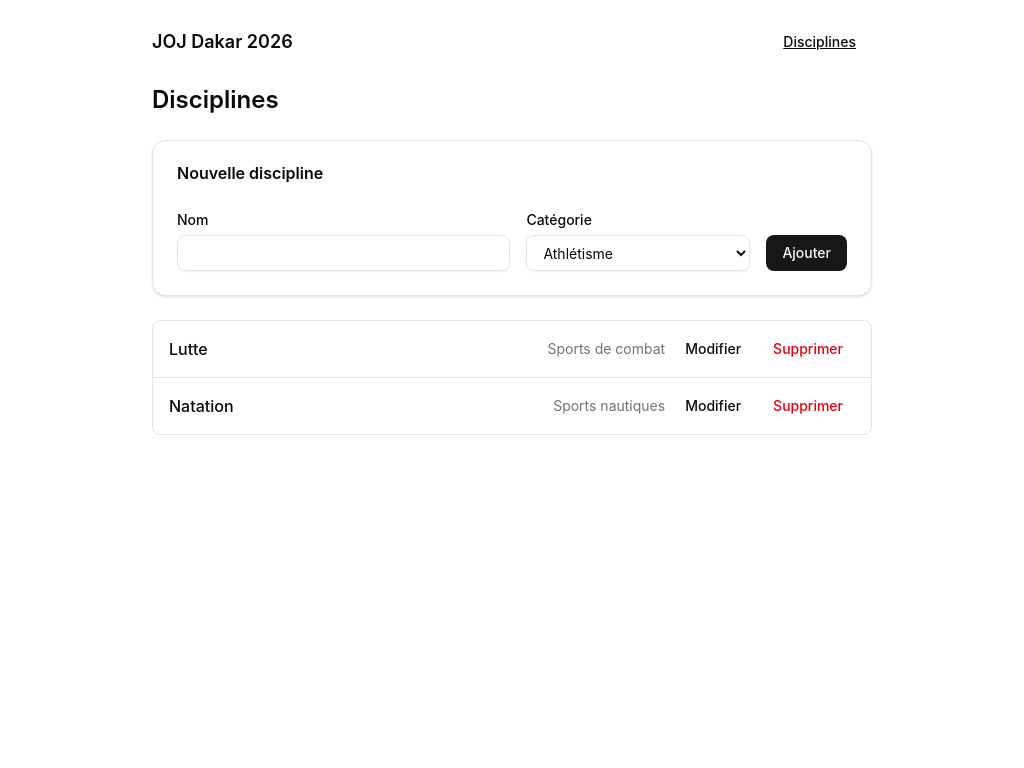
Test: DisciplinesPage › AS11: says when the discipline was deleted by someone else in the meantime
The width and height of the screenshot is (1024, 768).
Expected: the list item "Lutte" is shown, [153,321,871,378]
Click the button with aria-label "Supprimer Lutte". click: (808, 349)
box: [761,333,855,365]
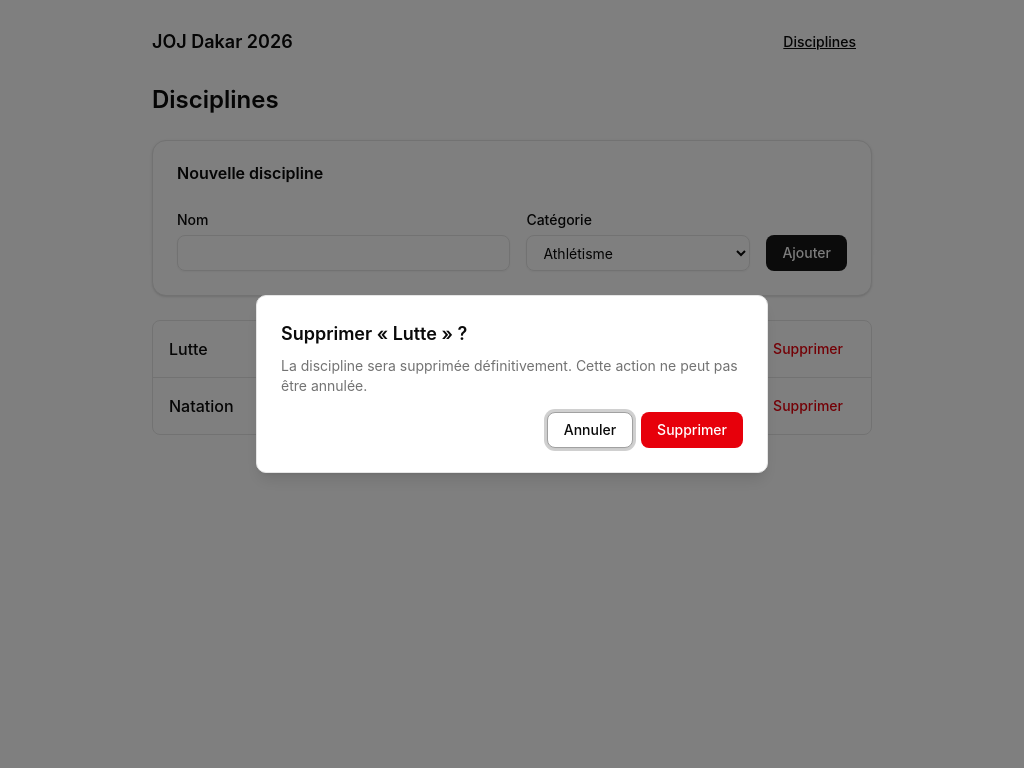
Click the button "Supprimer". click: (692, 430)
box: [641,412,743,448]
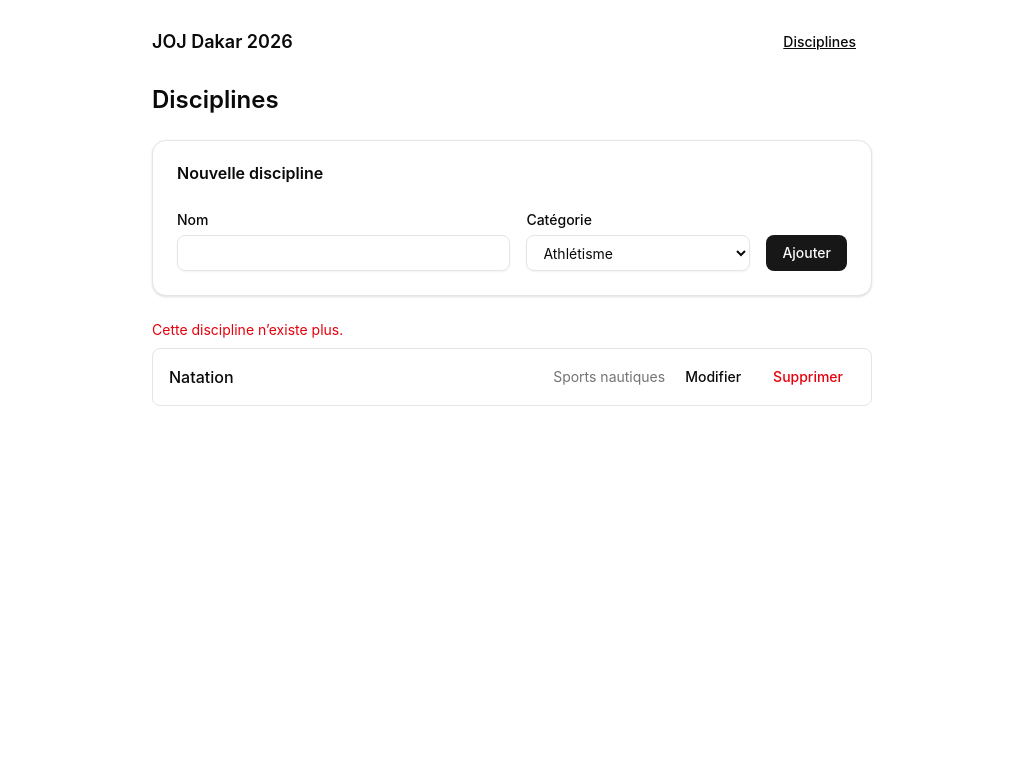
Expected: the message reads "Cette discipline n’existe plus.", [152,321,343,338]
